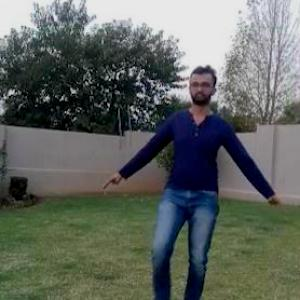land: (85, 63, 284, 299)
